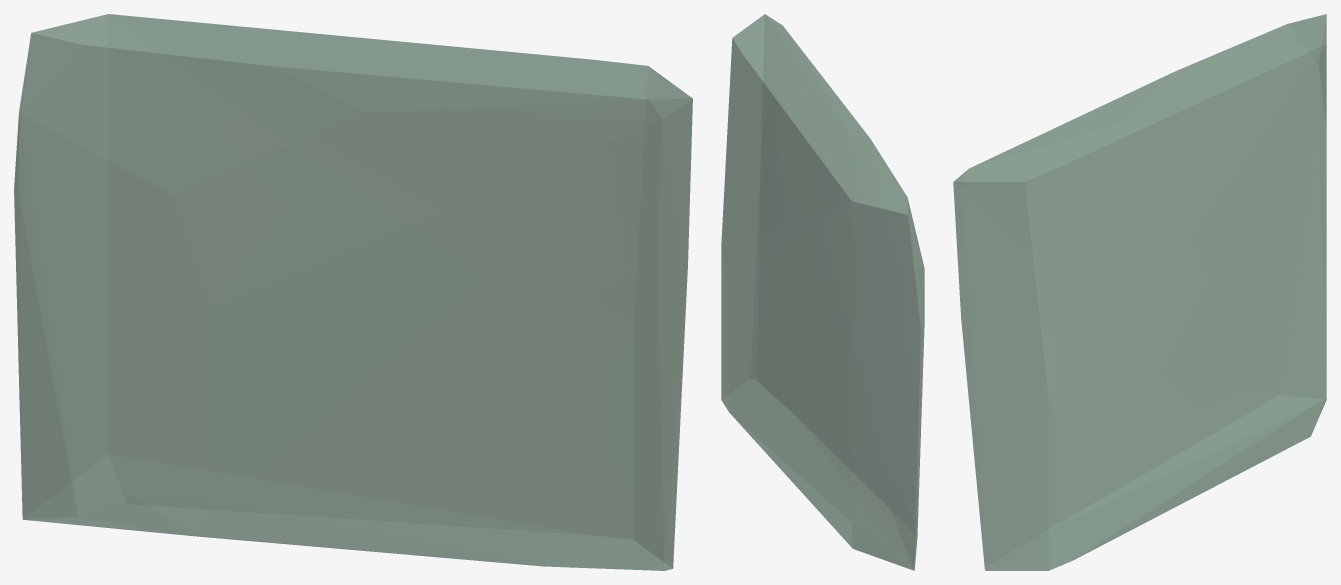
3 views of the same model, side by side, from view 1: azimuth 30°, elevation 25°; view 2: azimuth 150°, elevation 25°; view 3: azimuth 270°, elevation 25° (orthographic). The views are drawn at different scales.
Visible parts, largest first — view 1: Shape_IndexedFaceSet.017_Shape_IndexedFaceSet.5456; view 2: Shape_IndexedFaceSet.017_Shape_IndexedFaceSet.5456; view 3: Shape_IndexedFaceSet.017_Shape_IndexedFaceSet.5456.
Part boxes in pixels (x1,y1,x2,y2): Shape_IndexedFaceSet.017_Shape_IndexedFaceSet.5456: (14,14,692,570); Shape_IndexedFaceSet.017_Shape_IndexedFaceSet.5456: (721,14,924,570); Shape_IndexedFaceSet.017_Shape_IndexedFaceSet.5456: (953,14,1326,570).
Size of the model in its own units: 0.0234 by 0.0243 by 0.0211.
